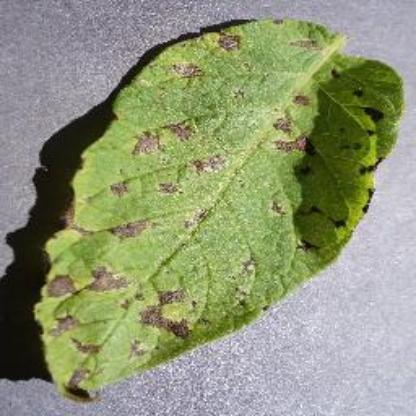Early-Blight: (23, 13, 416, 407)
